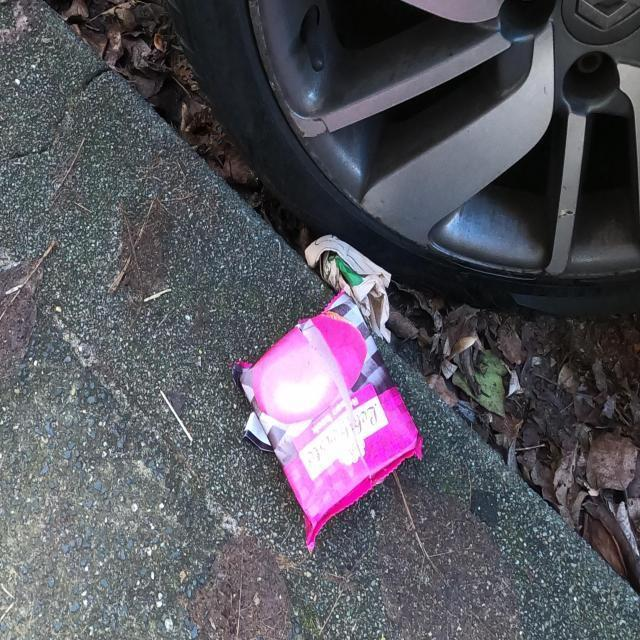Plastic: (225, 230, 426, 556)
